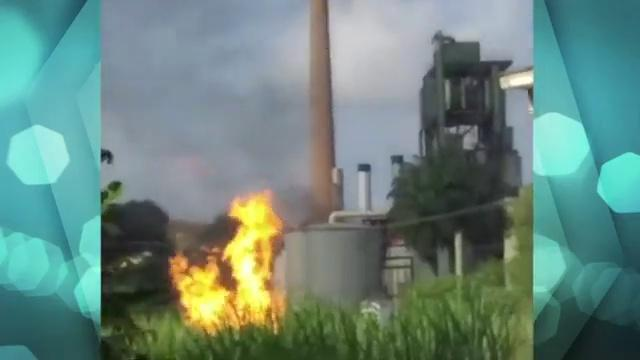fire: (230, 208, 268, 319), (185, 269, 217, 326)
